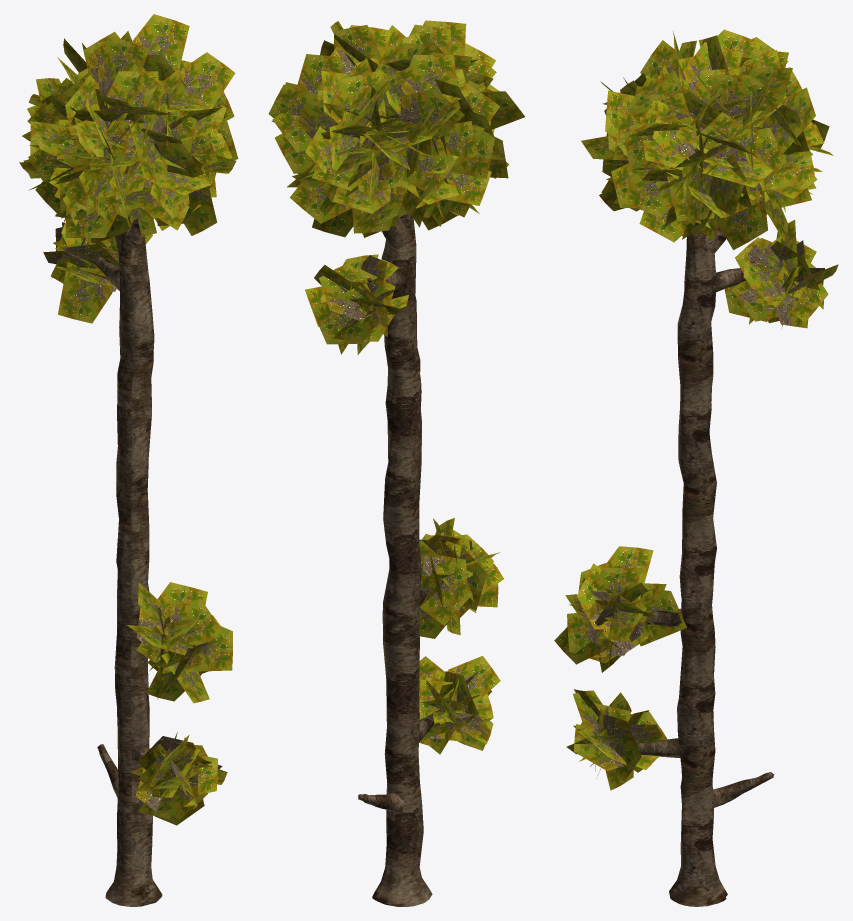
The model's file is SM_Yakushima_tree_002_22f484.glb.
3 renders of one model, left to right at view 1: azimuth 30°, elevation 25°; view 2: azimuth 150°, elevation 25°; view 3: azimuth 270°, elevation 25°, orthographic. The views are drawn at different scales.
Bounding box in the file's own units: 4.31 × 17.92 × 5.31.
Materials: 2 (2 with a texture image).
